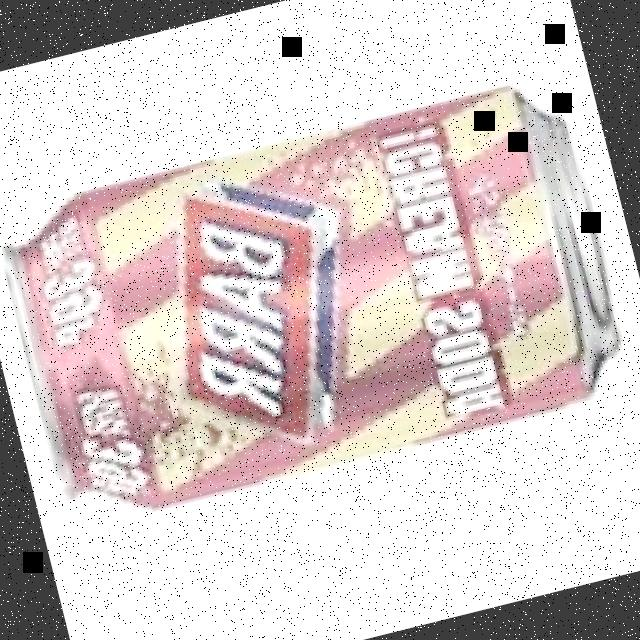can: (0, 68, 639, 533)
